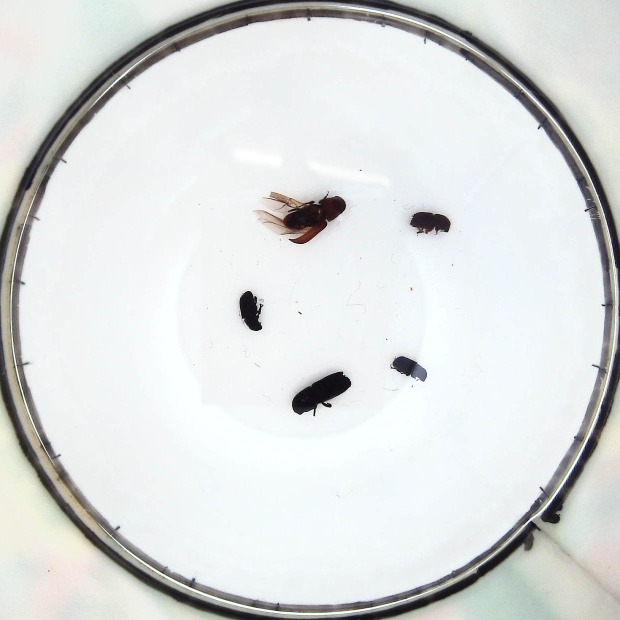armandi: (237, 290, 263, 334), (391, 354, 426, 385)
boerner: (290, 372, 352, 412)
leconte: (264, 192, 346, 241)
linnaeus: (414, 209, 450, 236)
